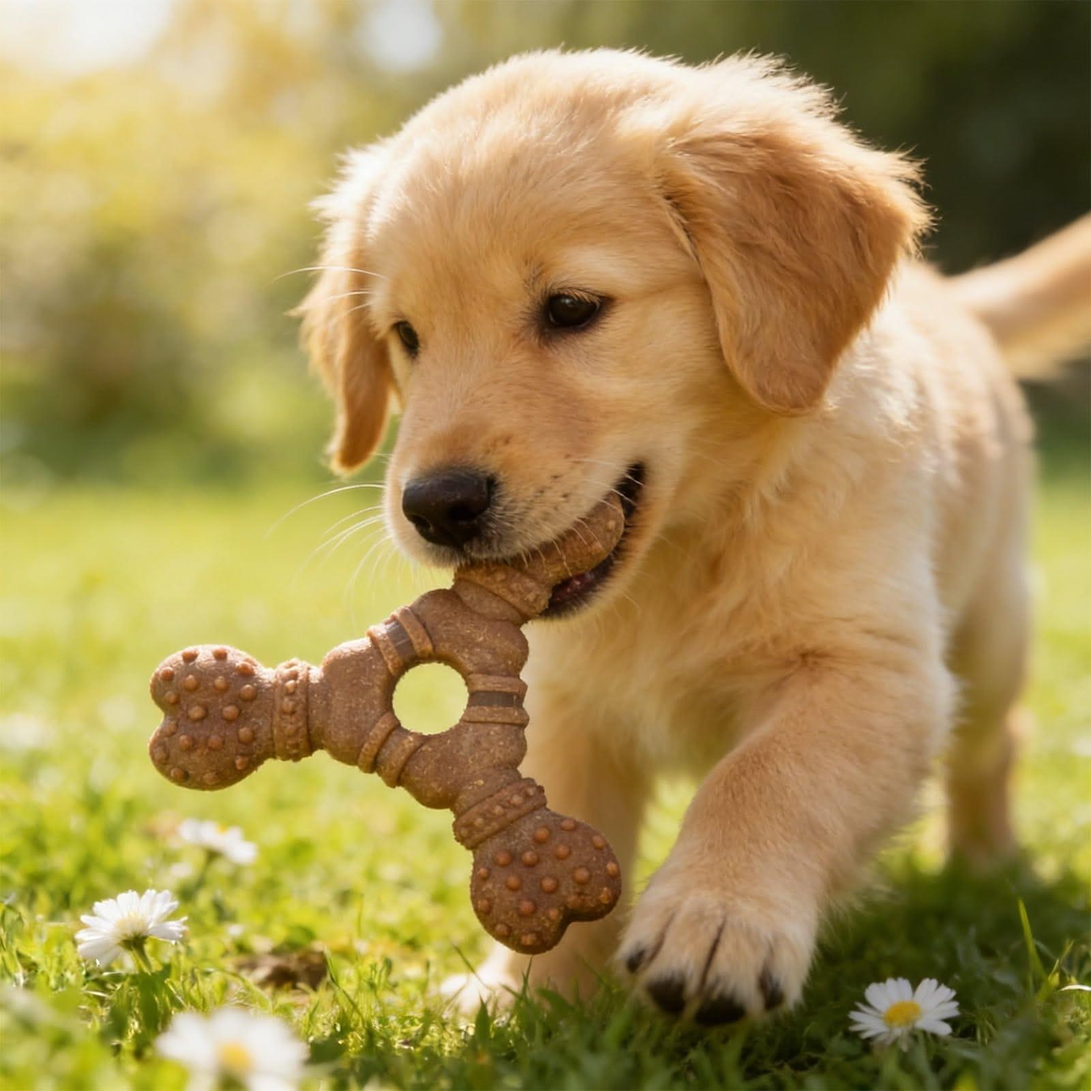puppy-dog: (299, 39, 1091, 1029)
